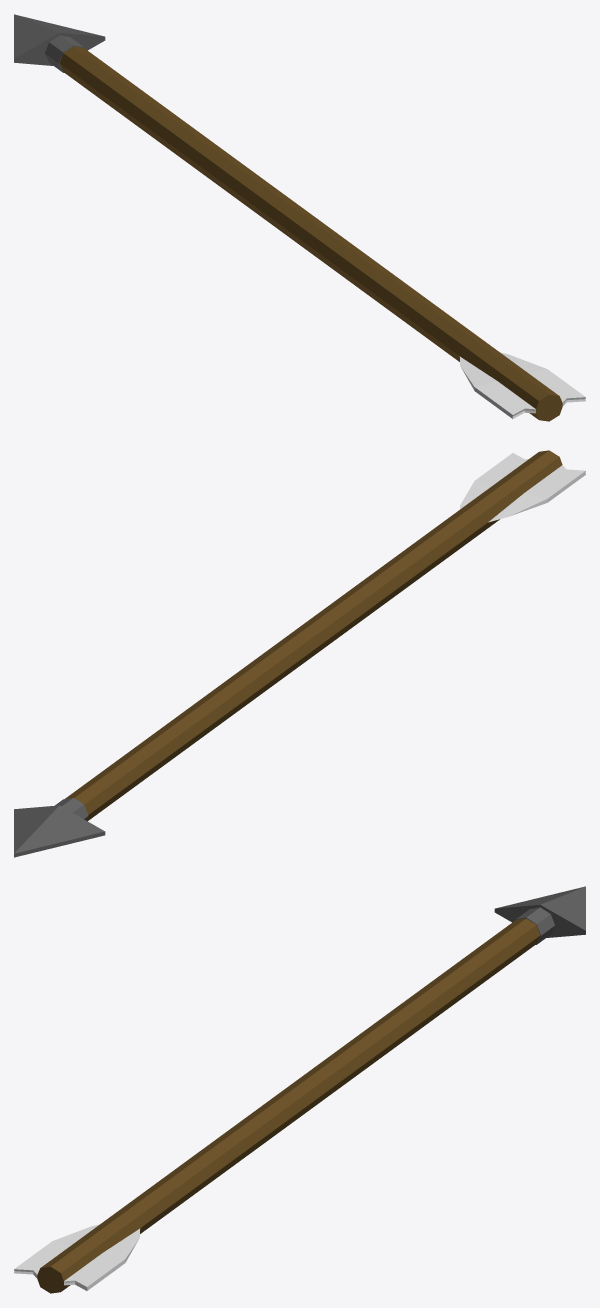
Rendered from freccia.fbx.
The picture shows the model from 3 angles, top to bottom: view 1: azimuth 30°, elevation 25°; view 2: azimuth 150°, elevation 25°; view 3: azimuth 330°, elevation 25°; orthographic projection.
Visible parts, largest first — view 1: freccia.001, freccia.002; view 2: freccia.001, freccia.002; view 3: freccia.001, freccia.002.
Part boxes in pixels (x1,y1,x2,y2): freccia.001: [59, 46, 585, 421]; freccia.002: [14, 14, 105, 72]; freccia.001: [65, 450, 585, 821]; freccia.002: [14, 797, 105, 857]; freccia.001: [14, 918, 540, 1293]; freccia.002: [494, 886, 585, 944].
Size of the model in its own units: 0.1539 by 1.56 by 0.0545.
